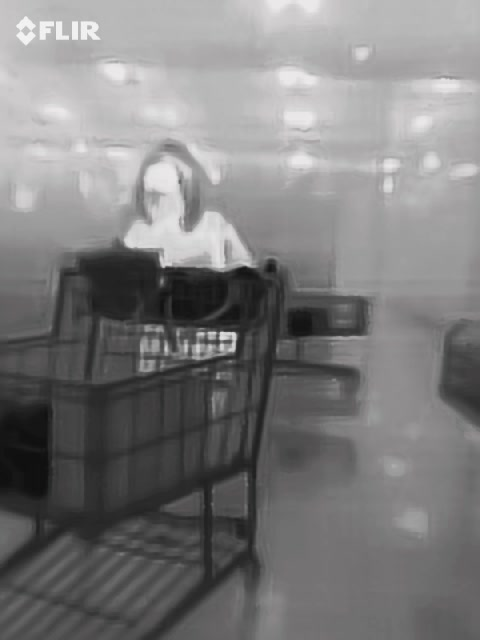head: (139, 144, 197, 230)
